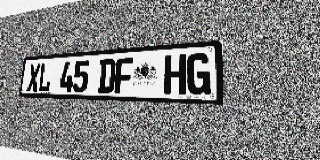4: (59, 61, 75, 92)
5: (73, 60, 90, 93)
D: (98, 59, 116, 93)
F: (114, 57, 134, 94)
G: (186, 53, 211, 95)
H: (164, 54, 186, 95)
L: (38, 63, 52, 92)
X: (26, 63, 41, 92)
